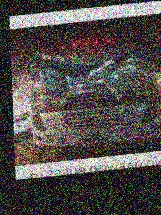bus: (21, 34, 161, 155)
